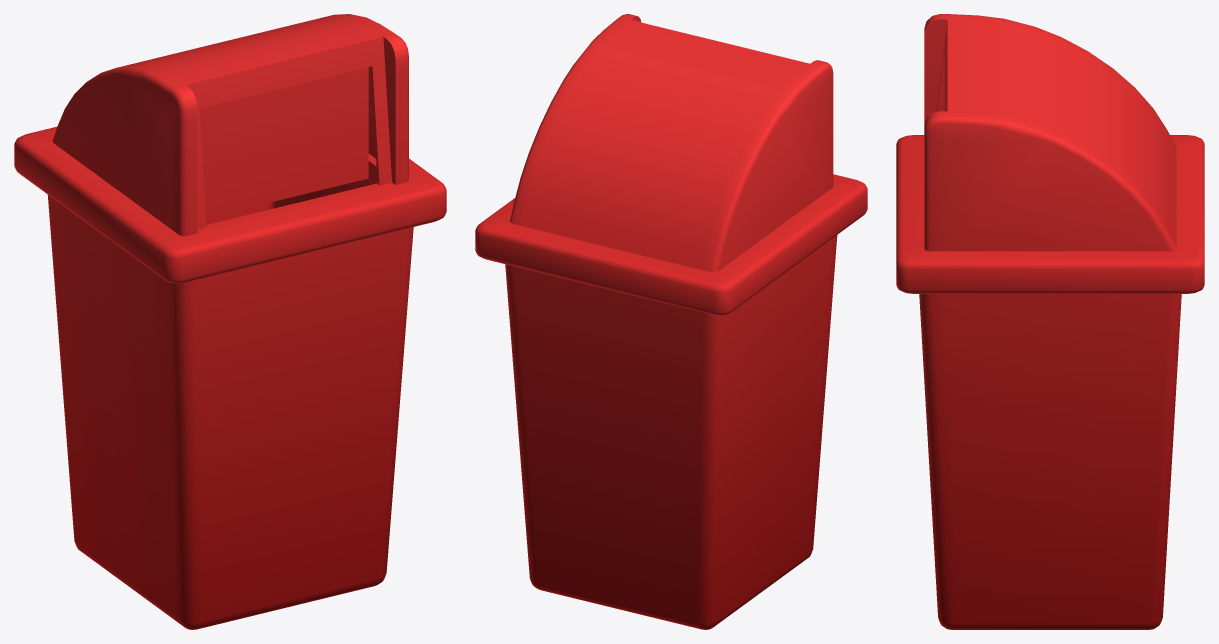
File: trash_bin_c_red.glb
The picture shows the model from 3 angles, left to right: view 1: azimuth 30°, elevation 25°; view 2: azimuth 150°, elevation 25°; view 3: azimuth 270°, elevation 25°; orthographic projection. The views are drawn at different scales.
Visible parts, largest first — view 1: trash_bin_c_red; view 2: trash_bin_c_red; view 3: trash_bin_c_red.
Part boxes in pixels (x1=…): trash_bin_c_red: x1=14, y1=14, x2=446, y2=629; trash_bin_c_red: x1=475, y1=14, x2=867, y2=629; trash_bin_c_red: x1=896, y1=14, x2=1204, y2=629.
Bounding box in the file's own units: 0.4111 × 0.7667 × 0.4111.
1 material, 1 textured.
